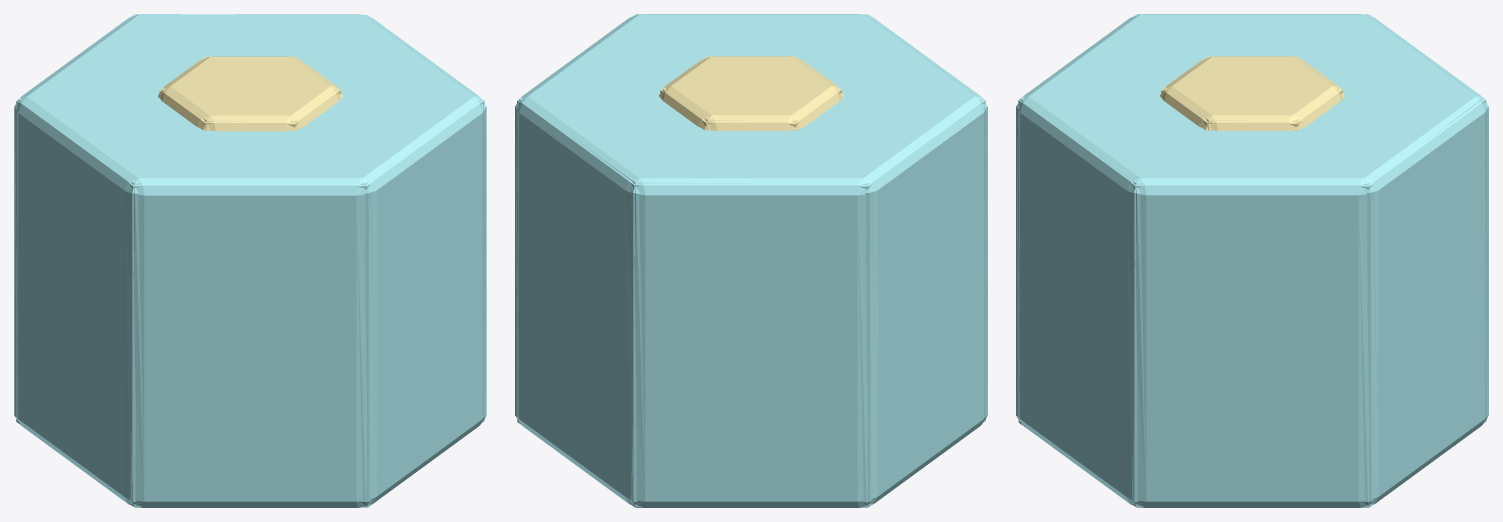
File: SM_Spliter.fbx
3 views of the same model, side by side, from view 1: azimuth 30°, elevation 25°; view 2: azimuth 150°, elevation 25°; view 3: azimuth 270°, elevation 25° (orthographic).
Visible parts, largest first — view 1: SM_Spliter, LOD1_SM_Spliter, LOD2_SM_Spliter; view 2: SM_Spliter, LOD1_SM_Spliter, LOD2_SM_Spliter; view 3: SM_Spliter, LOD1_SM_Spliter, LOD2_SM_Spliter.
Part boxes in pixels (bbox=[...]): SM_Spliter: bbox=[15, 14, 484, 507]; LOD1_SM_Spliter: bbox=[15, 14, 485, 507]; LOD2_SM_Spliter: bbox=[14, 14, 486, 507]; SM_Spliter: bbox=[516, 14, 986, 507]; LOD1_SM_Spliter: bbox=[516, 14, 986, 505]; LOD2_SM_Spliter: bbox=[515, 14, 987, 507]; SM_Spliter: bbox=[1017, 14, 1487, 507]; LOD1_SM_Spliter: bbox=[1017, 14, 1487, 507]; LOD2_SM_Spliter: bbox=[1016, 14, 1488, 507].
Bounding box in the file's own units: 0.3118 × 0.2907 × 0.356.
